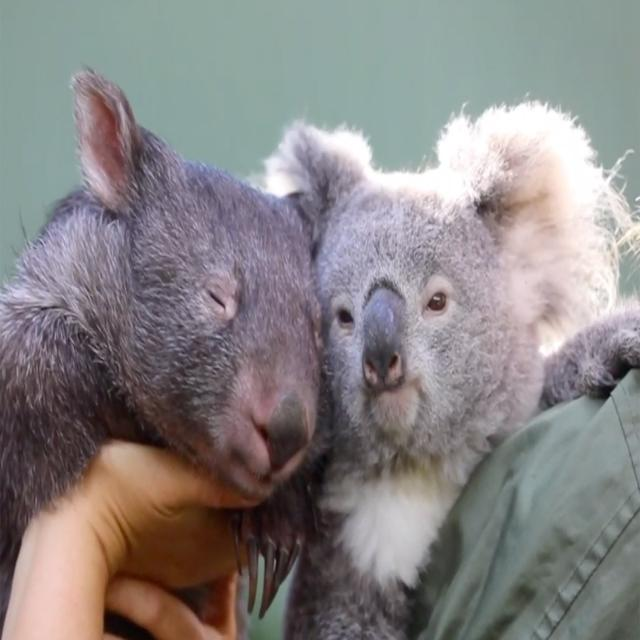Wombat: (290, 86, 636, 639), (0, 61, 324, 596)
